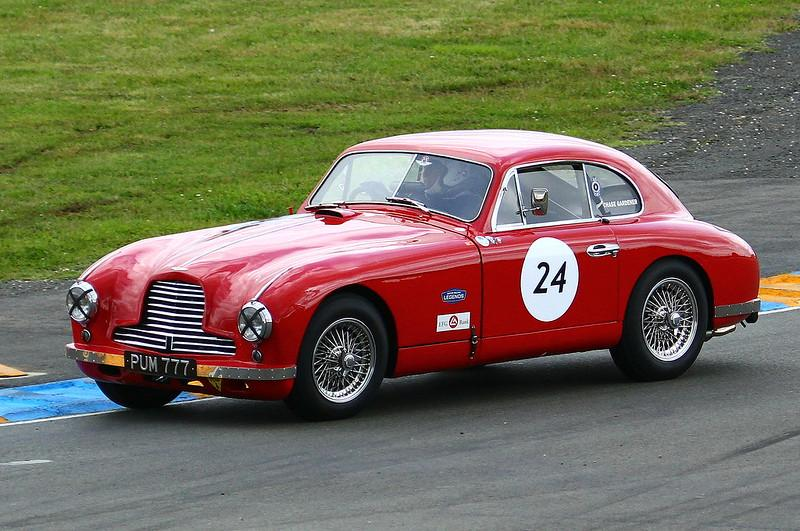windshield: (292, 150, 502, 233)
